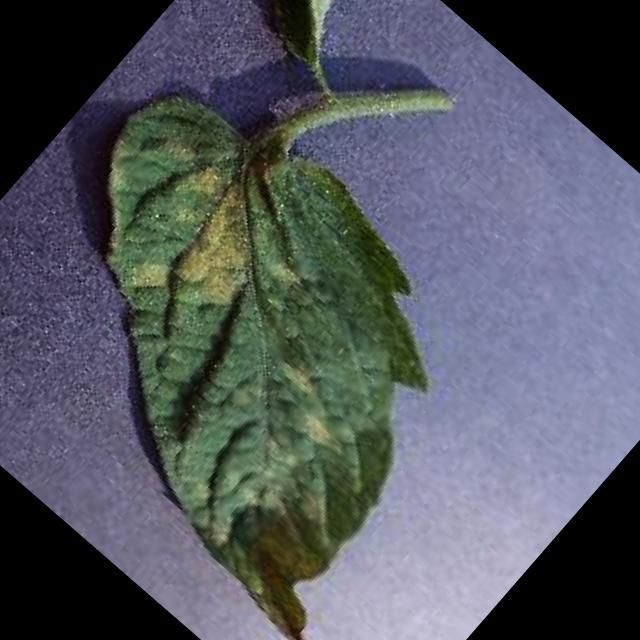Tomato mold leaf: (0, 45, 572, 640)
